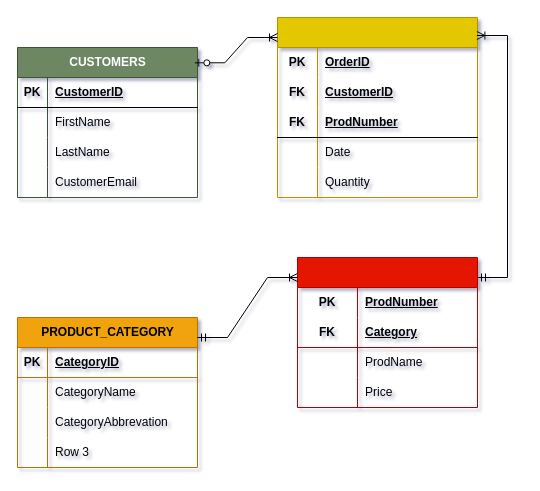
Some shapes in this 540 by 491 pixel diagram are drawn without their labels. The box of each missing label's shape, as (x1, y1, x2, y2) in pixels:
ORDERS: (276, 16, 478, 198)
PRODUCTS: (296, 256, 478, 408)
